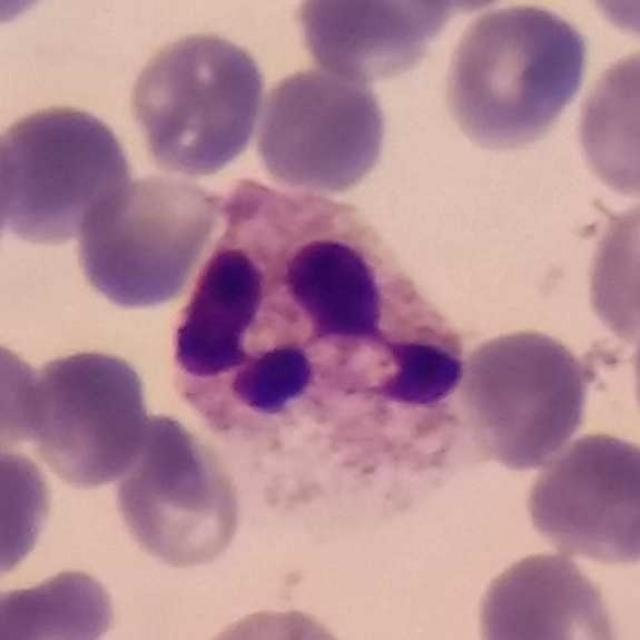Neutrophil: (154, 172, 484, 510)
RBC: (439, 0, 593, 155), (68, 164, 224, 312), (108, 408, 247, 574), (124, 26, 270, 179), (456, 323, 596, 472), (17, 342, 154, 492), (1, 97, 138, 247), (251, 65, 393, 197), (520, 427, 640, 569), (471, 546, 628, 640), (291, 0, 457, 83), (570, 42, 640, 203), (580, 185, 640, 346), (0, 563, 121, 640), (0, 441, 57, 585), (185, 601, 362, 640), (0, 332, 51, 466), (0, 104, 21, 270), (577, 0, 640, 46), (625, 292, 640, 459), (378, 0, 537, 14), (0, 0, 57, 35)
